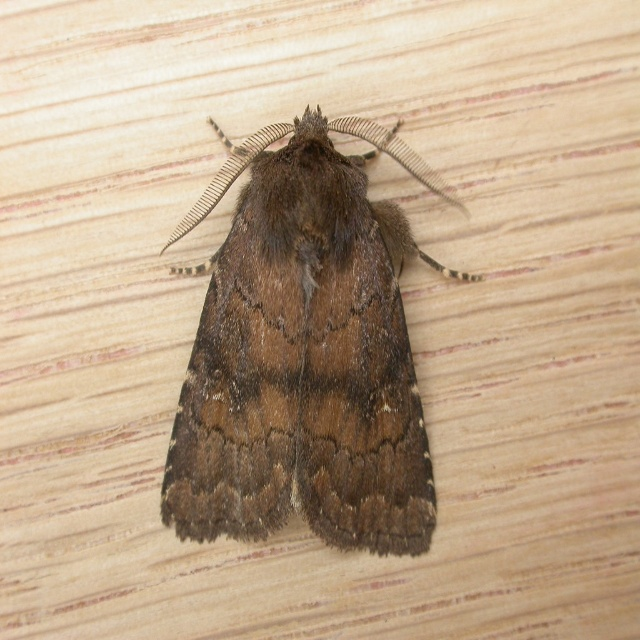Moths and butterflies: (153, 102, 489, 564)
